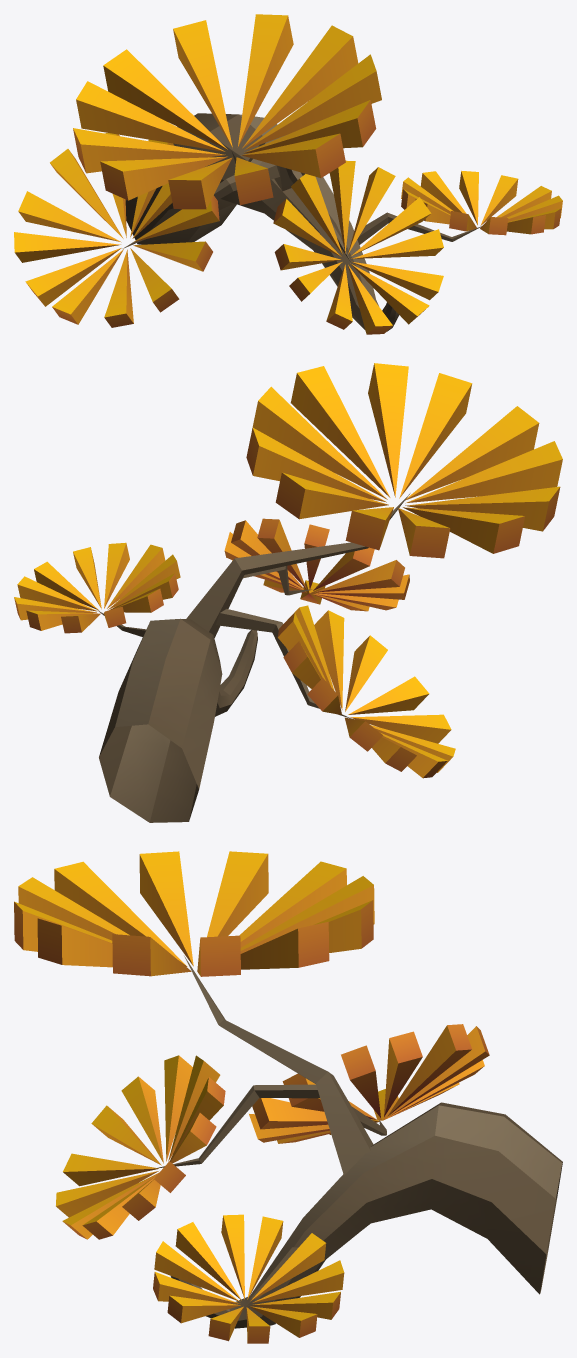
File: branch_yellow_1.glb
The picture shows the model from 3 angles, top to bottom: view 1: azimuth 30°, elevation 25°; view 2: azimuth 150°, elevation 25°; view 3: azimuth 270°, elevation 25°; orthographic projection. The views are drawn at different scales.
Visible parts, largest first — view 1: branch_yellow_1; view 2: branch_yellow_1; view 3: branch_yellow_1.
Boxes of the visible parts, left/top/right/bottom form: branch_yellow_1: left=14, top=14, right=562, bottom=334; branch_yellow_1: left=14, top=363, right=562, bottom=822; branch_yellow_1: left=14, top=851, right=562, bottom=1343.
Size of the model in its own units: 2.87 by 1.79 by 2.41.
1 material, 1 textured.
